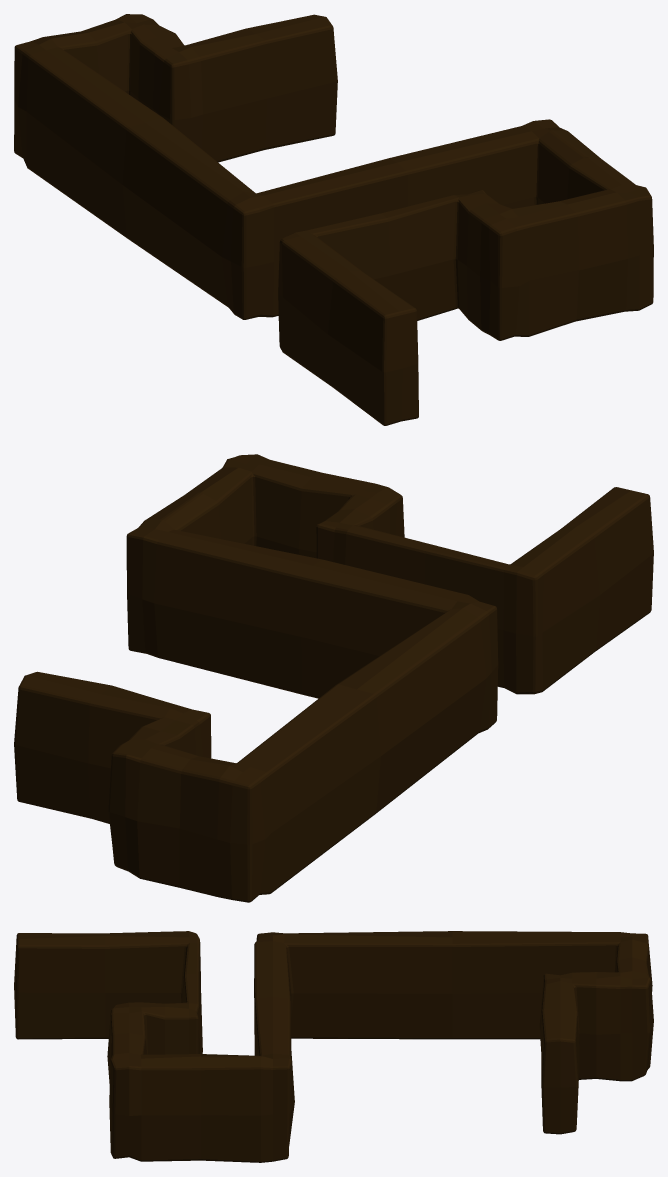
File: Wall piece 14.fbx
3 views of the same model, one above another, from view 1: azimuth 30°, elevation 25°; view 2: azimuth 150°, elevation 25°; view 3: azimuth 270°, elevation 25° (orthographic). The views are drawn at different scales.
Parts seen in each view (by area): view 1: wall piece 14O; view 2: wall piece 14O; view 3: wall piece 14O.
Part boxes in pixels (left/top/right/bottom): wall piece 14O: left=14, top=14, right=653, bottom=425; wall piece 14O: left=14, top=454, right=653, bottom=902; wall piece 14O: left=14, top=931, right=653, bottom=1162.
Bounding box in the file's own units: 1381 × 2671 × 478.
